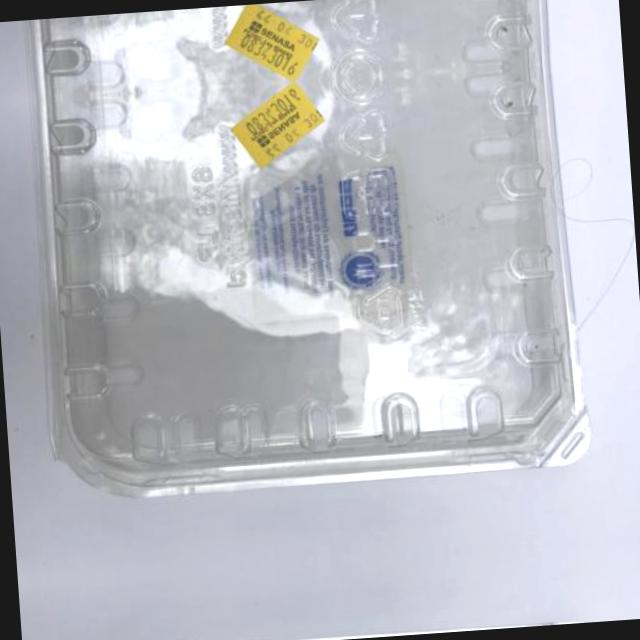Plastic: (5, 57, 640, 539), (0, 0, 613, 100), (42, 577, 640, 640)
